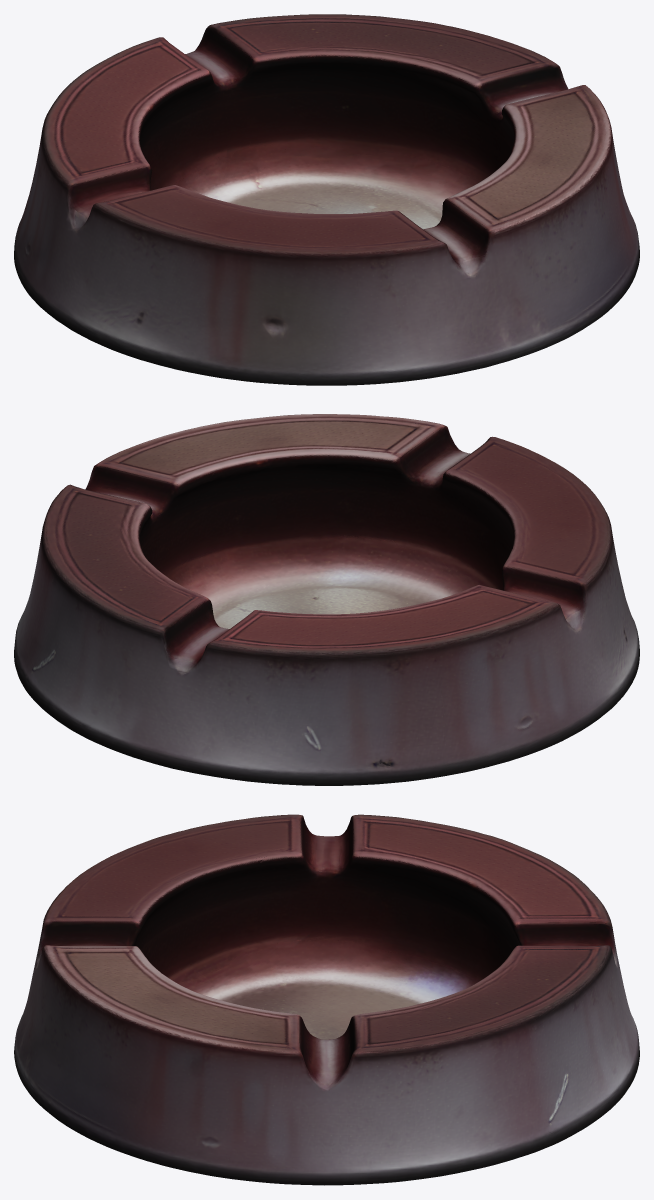
The model's file is asbak_rokok_-_indonesia.glb.
3 views of the same model, one above another, from view 1: azimuth 30°, elevation 25°; view 2: azimuth 150°, elevation 25°; view 3: azimuth 270°, elevation 25° (orthographic).
Parts seen in each view (by area): view 1: world_0; view 2: world_0; view 3: world_0.
Part boxes in pixels (bbox=[...]): world_0: bbox=[14, 14, 639, 385]; world_0: bbox=[14, 414, 639, 785]; world_0: bbox=[14, 814, 639, 1185].
Bounding box in the file's own units: 0.9996 × 0.2137 × 0.9994.
1 material, 1 textured.
